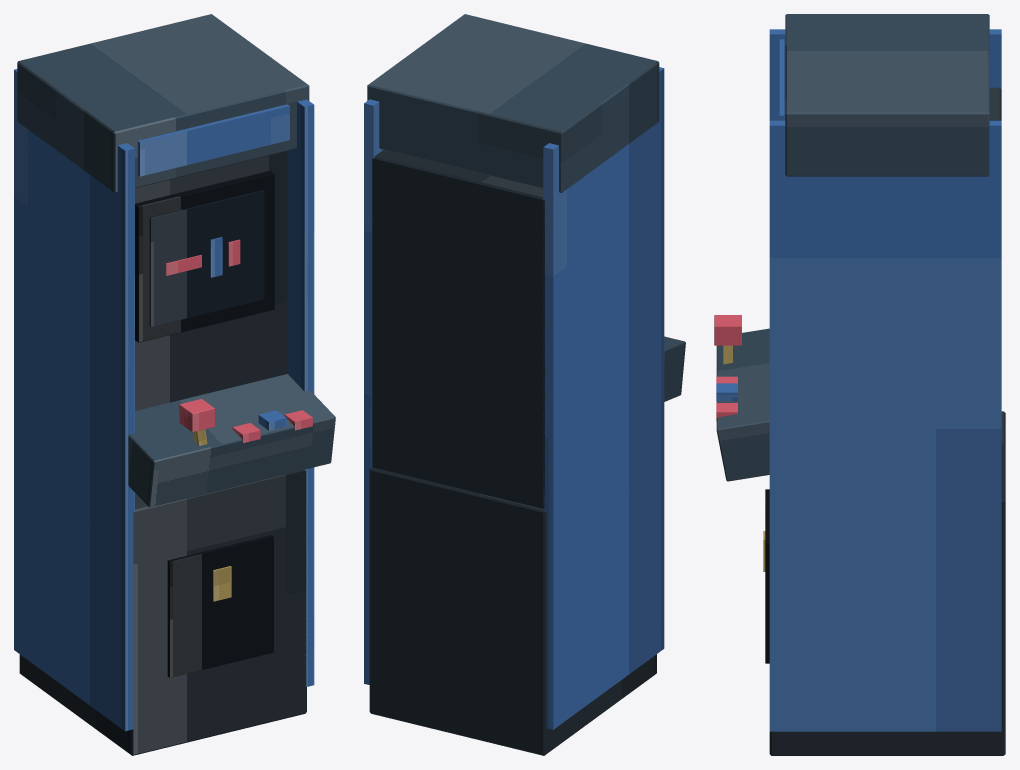
File: arcade_cabinet_default.glb
3 views of the same model, side by side, from view 1: azimuth 30°, elevation 25°; view 2: azimuth 150°, elevation 25°; view 3: azimuth 270°, elevation 25° (orthographic). The views are drawn at different scales.
Visible parts, largest first — view 1: EdgeTrim_L, CabinetBase, Marquee, ControlDeck, CabinetUpper, CoinDoor, ScreenGlass, EdgeTrim_R, ScreenRecess, MarqueeFace, JoystickTop, CoinSlot; view 2: EdgeTrim_L, CabinetUpper, CabinetBase, Marquee, EdgeTrim_R, ControlDeck; view 3: EdgeTrim_R, Marquee, CabinetBase, ControlDeck, EdgeTrim_L, CoinDoor, JoystickTop.
Boxes of the visible parts, x1,y1,x2,y2 form: EdgeTrim_L: (14,69,134,731); CabinetBase: (19,470,306,755); Marquee: (17,14,309,192); ControlDeck: (128,374,335,507); CabinetUpper: (135,151,287,493); CoinDoor: (167,535,273,677); ScreenGlass: (149,190,264,327); EdgeTrim_R: (287,99,314,686); ScreenRecess: (135,170,274,342); MarqueeFace: (137,104,289,176); JoystickTop: (179,399,214,432); CoinSlot: (213,566,231,601); EdgeTrim_L: (543,67,664,729); CabinetUpper: (372,150,544,508); CabinetBase: (369,467,656,755); Marquee: (367,14,659,192); EdgeTrim_R: (364,99,383,684); ControlDeck: (664,336,685,401); EdgeTrim_R: (769,120,1001,731); Marquee: (785,14,989,176); CabinetBase: (769,411,1005,755); ControlDeck: (716,328,769,481); EdgeTrim_L: (769,29,1001,120); CoinDoor: (765,489,769,663); JoystickTop: (714,315,741,345).
Bounding box in the file's own units: 0.6 × 1.82 × 0.74.
Materials: 1 (1 with a texture image).
